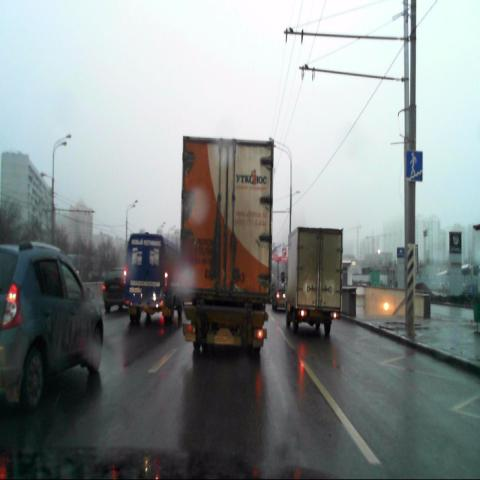6_6: (406, 151, 423, 181)
